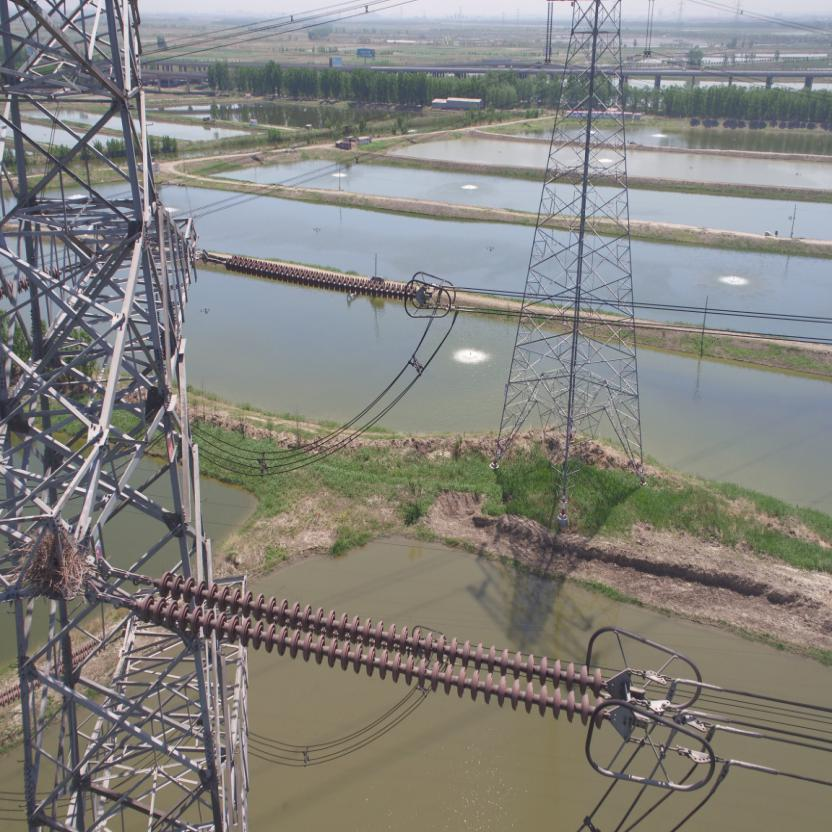insulator: (123, 568, 619, 730), (218, 250, 419, 304)
